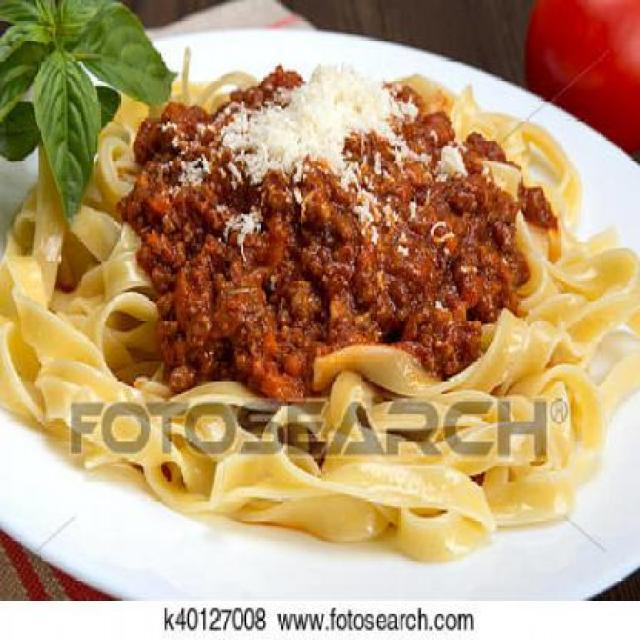Pasta al ragu: (118, 44, 580, 382)
